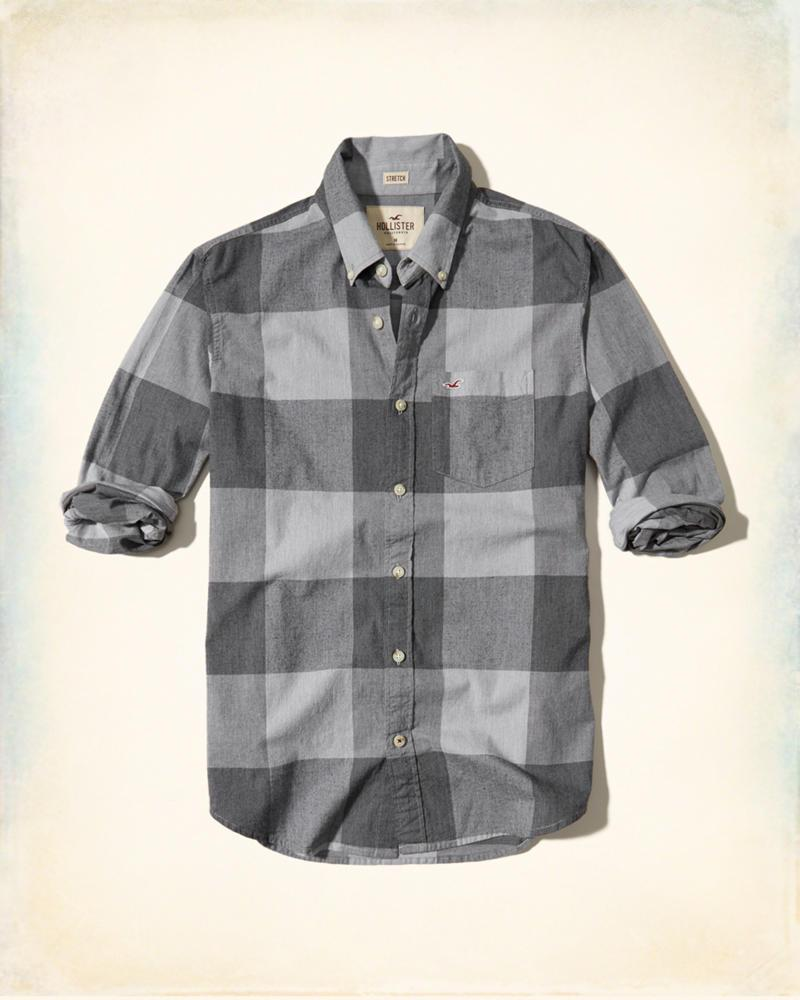teeshirt: (56, 118, 742, 877)
